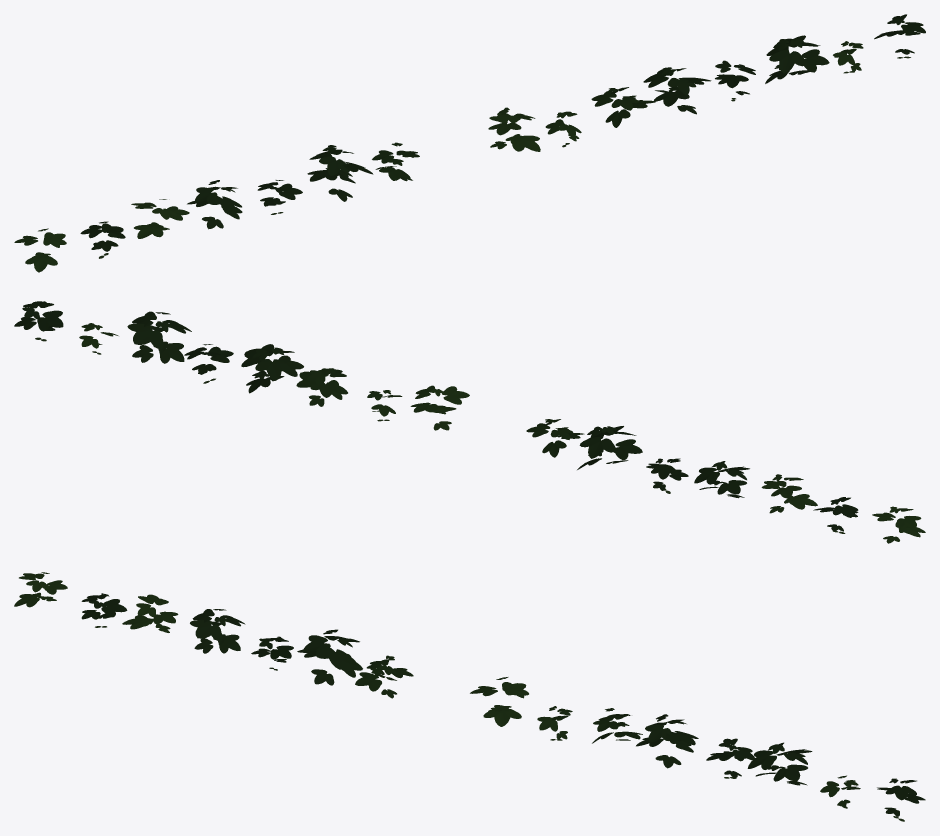
The model's file is ROW_00_SEG3_foliage.dae.
The picture shows the model from 3 angles, top to bottom: view 1: azimuth 30°, elevation 25°; view 2: azimuth 150°, elevation 25°; view 3: azimuth 330°, elevation 25°; orthographic projection.
Visible parts, largest first — view 1: ROW_00_SEG3_foliage; view 2: ROW_00_SEG3_foliage; view 3: ROW_00_SEG3_foliage.
Part boxes in pixels (x1,y1,x2,y2): ROW_00_SEG3_foliage: (14,14,925,272); ROW_00_SEG3_foliage: (14,301,925,543); ROW_00_SEG3_foliage: (14,572,925,821).
Size of the model in its own units: 4.81 by 0.3244 by 0.2653.
